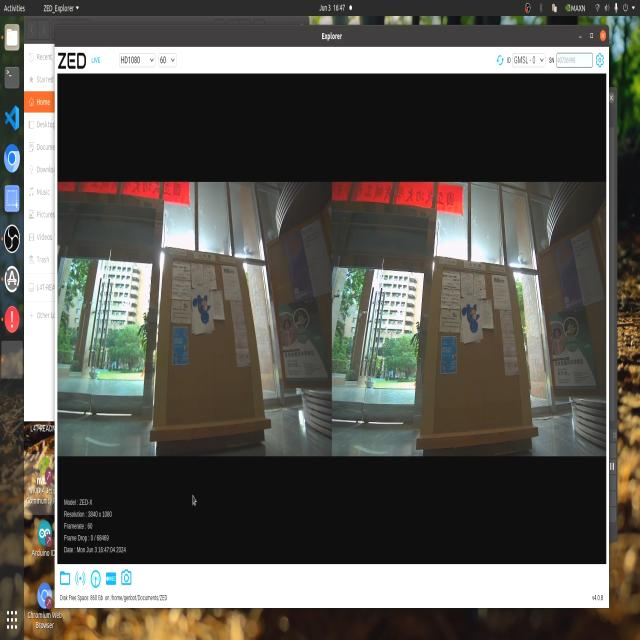blue: (183, 279, 210, 333), (456, 298, 482, 336)
